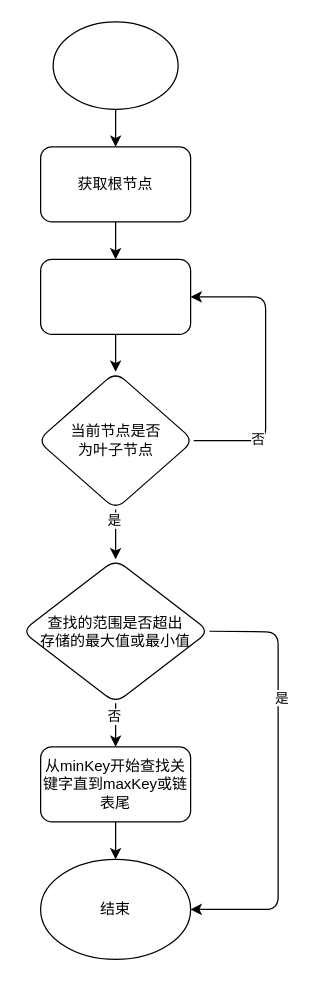
This 310x981 diagram has some shape labels left out. The centre of each missing label's shape, as x and y in pixels:
开始: the point at 115,65
根据minKey查找: the point at 115,296
